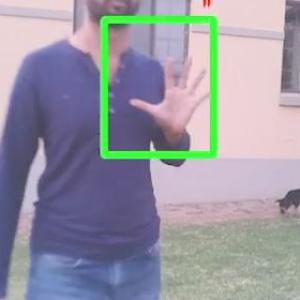follow_hand: (128, 50, 216, 140)
